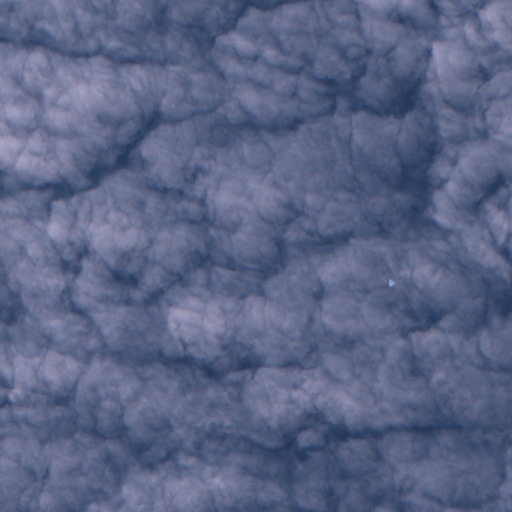Iceberg: (388, 279, 394, 286), (172, 104, 173, 106)
